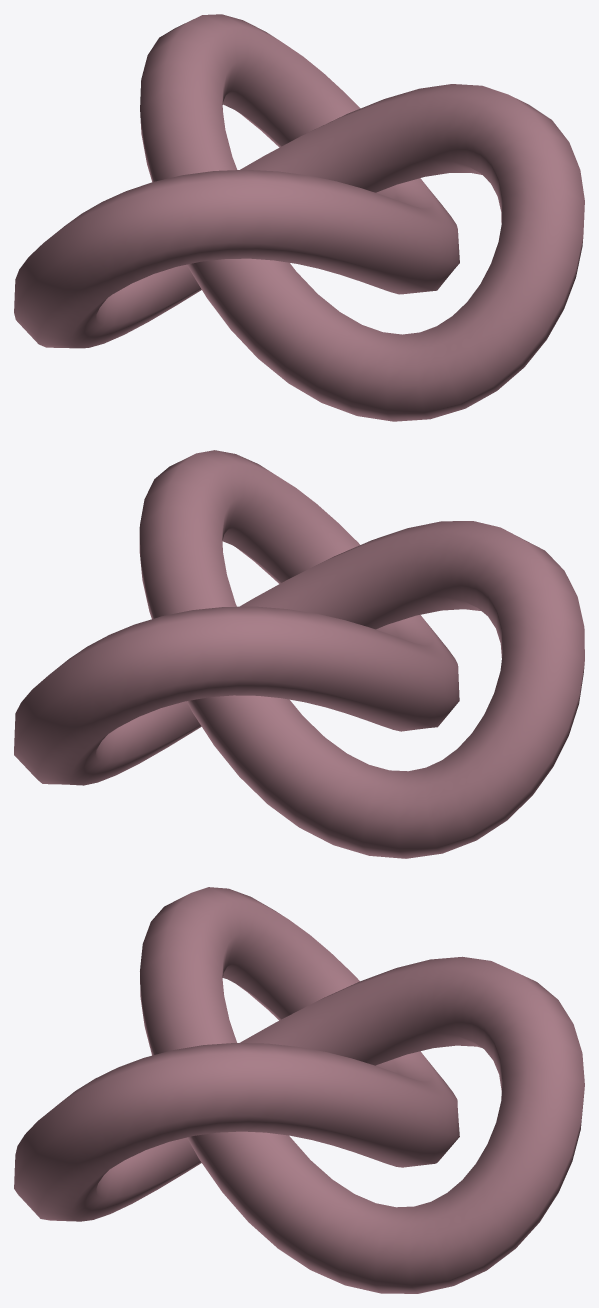
The model's file is TorusKnot.gltf.
3 views of the same model, one above another, from view 1: azimuth 30°, elevation 25°; view 2: azimuth 150°, elevation 25°; view 3: azimuth 270°, elevation 25° (orthographic).
Visible parts, largest first — view 1: TorusKnot; view 2: TorusKnot; view 3: TorusKnot.
Boxes of the visible parts, x1,y1,x2,y2 form: TorusKnot: [14, 14, 584, 421]; TorusKnot: [14, 450, 584, 858]; TorusKnot: [14, 887, 584, 1293].
Size of the model in its own units: 6.04 by 2.96 by 6.41.
